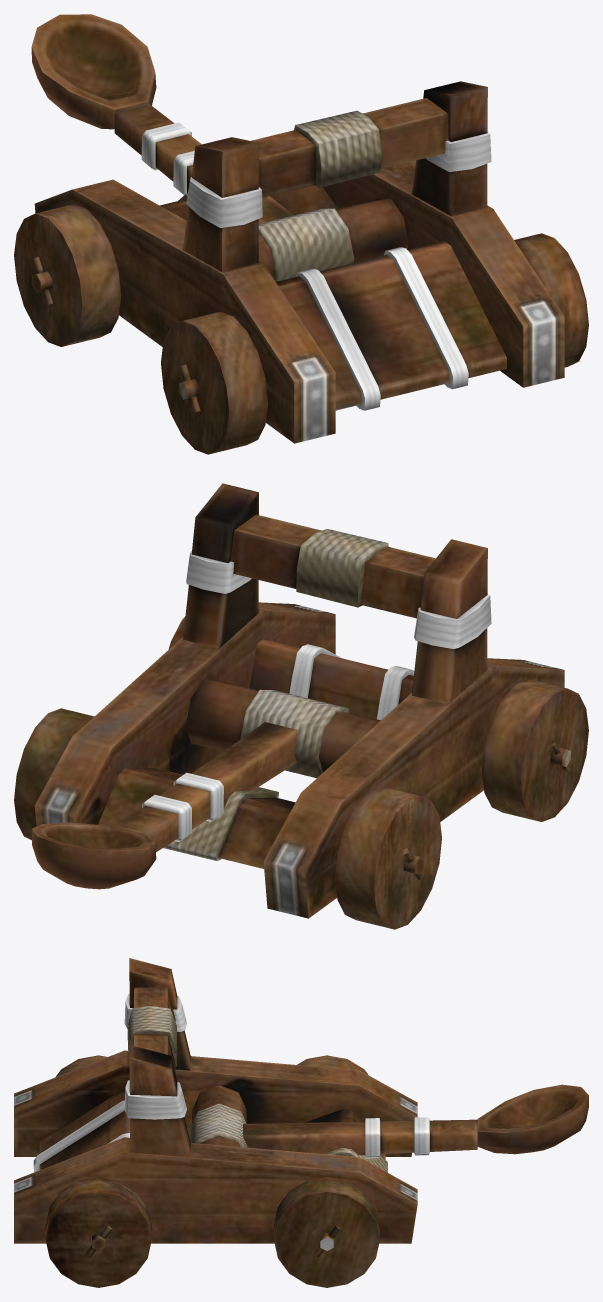
Rendered from 217-catapult.glb.
3 renders of one model, top to bottom at view 1: azimuth 30°, elevation 25°; view 2: azimuth 150°, elevation 25°; view 3: azimuth 270°, elevation 25°, orthographic. The views are drawn at different scales.
Bounding box in the file's own units: 2.79 × 1.89 × 4.66.
1 material, 1 textured.
